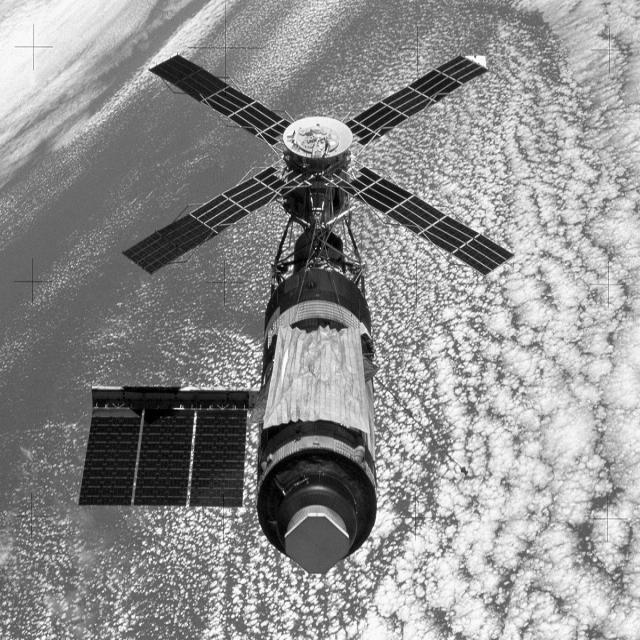medium_debris: (74, 39, 520, 579)
